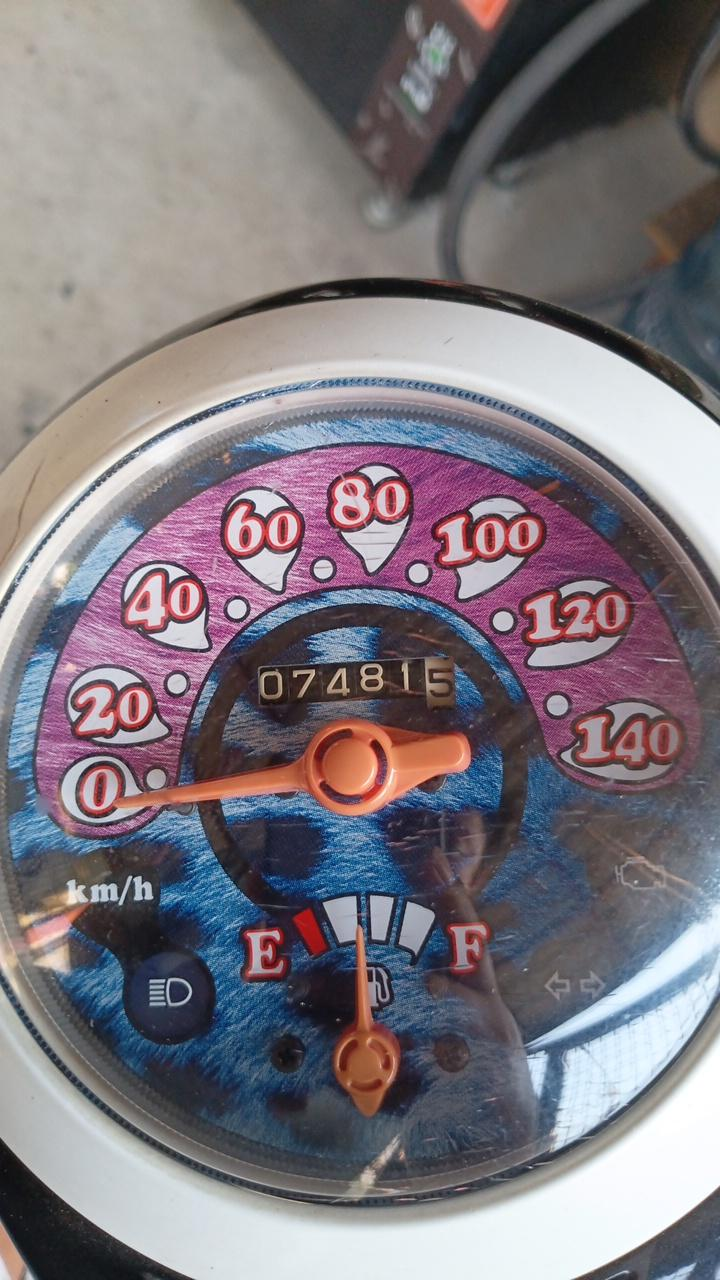0: (258, 669, 283, 700)
1: (400, 660, 410, 692)
4: (325, 666, 351, 698)
5: (427, 667, 454, 699)
7: (291, 668, 316, 701)
8: (360, 662, 384, 692)
odometer: (253, 651, 458, 713)
